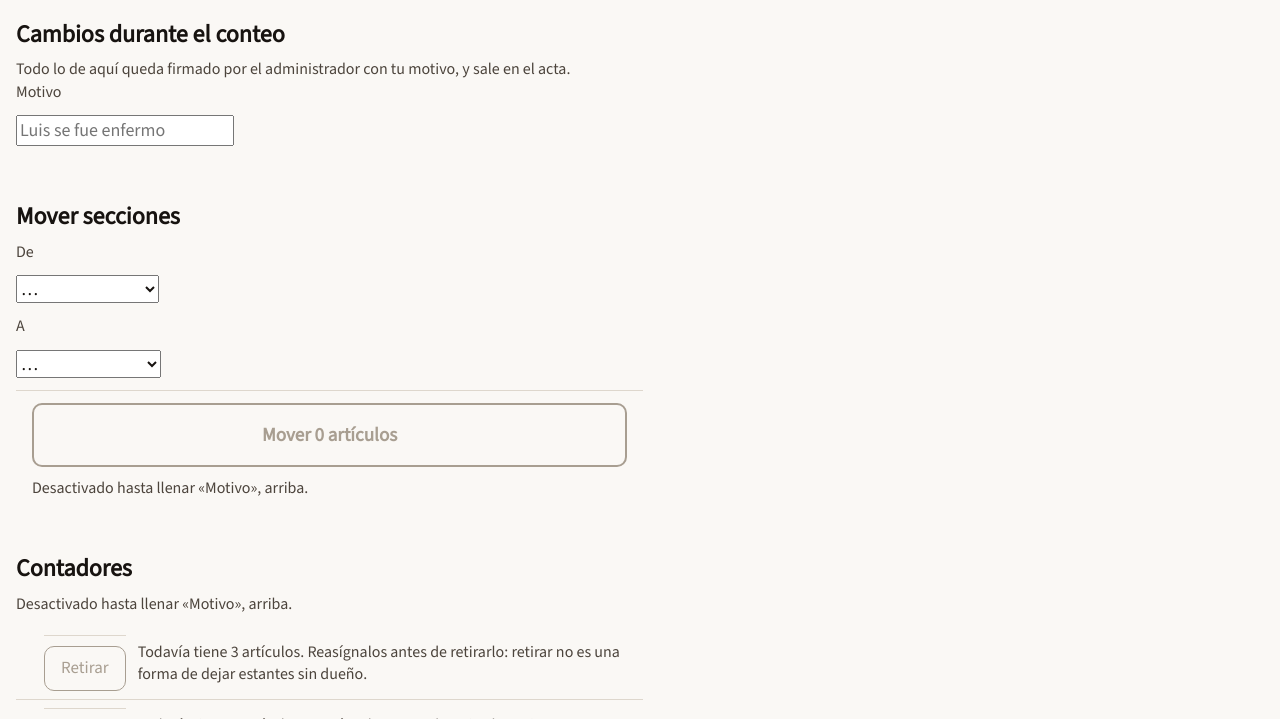
sending the move › turns a refusal back into the sentences it came from
Step 1. Type "x" into the field labelled "Motivo" → (125, 131), box [16, 115, 234, 146]
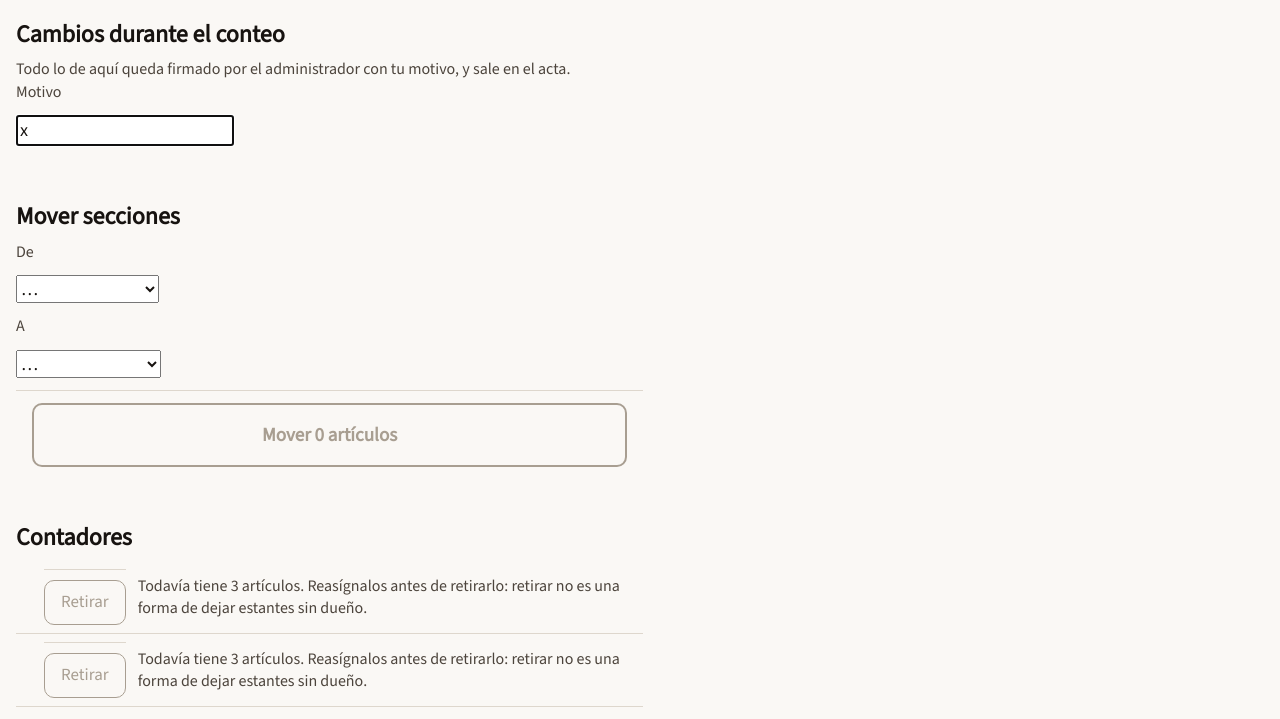
Step 2. Select "Luis · 3 artículos" in the dropdown labelled "De" → (88, 289), box [16, 275, 159, 303]
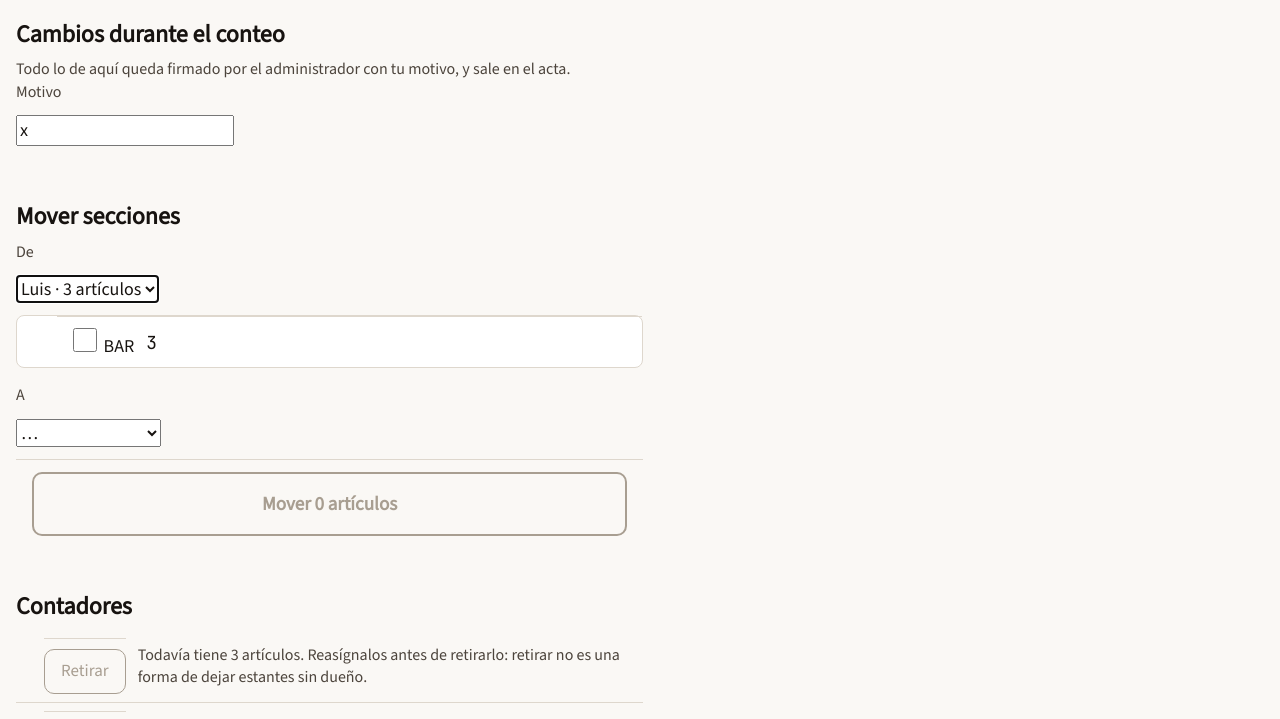
Step 3. Click the checkbox → (85, 340), box [73, 328, 97, 352]
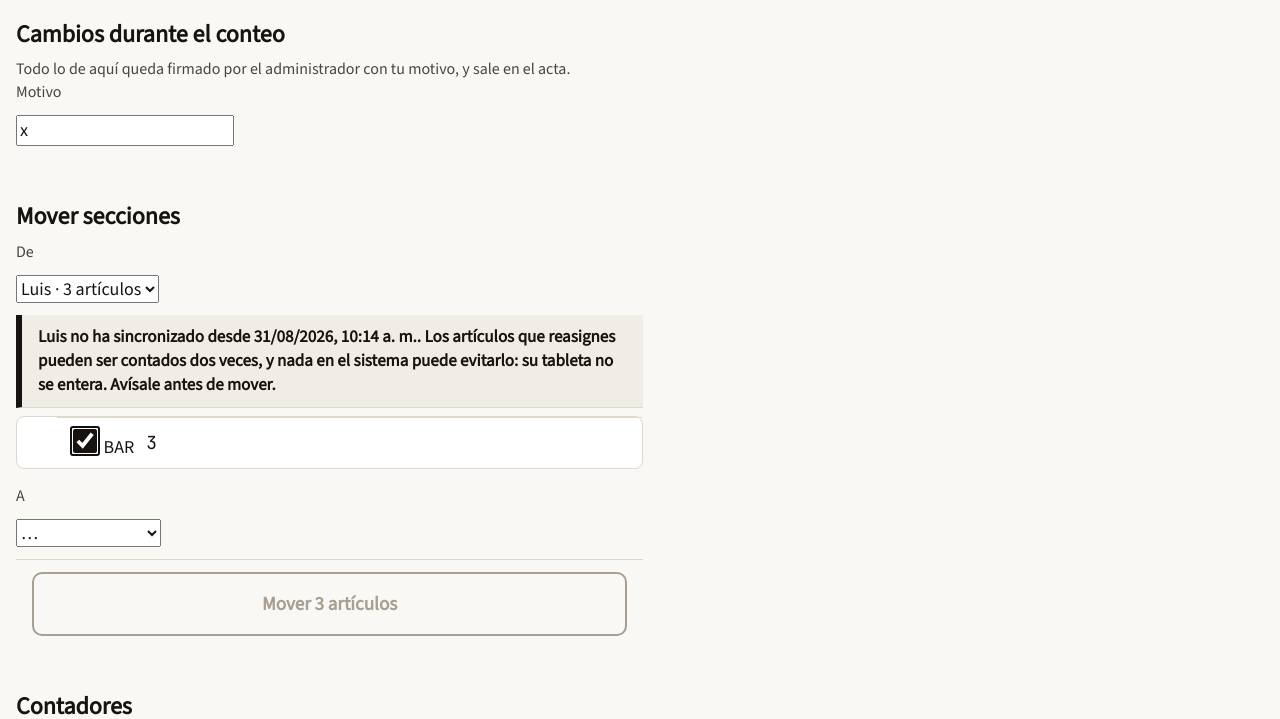
Step 4. Select "Ana" in the dropdown labelled "A" → (88, 533), box [16, 519, 161, 547]
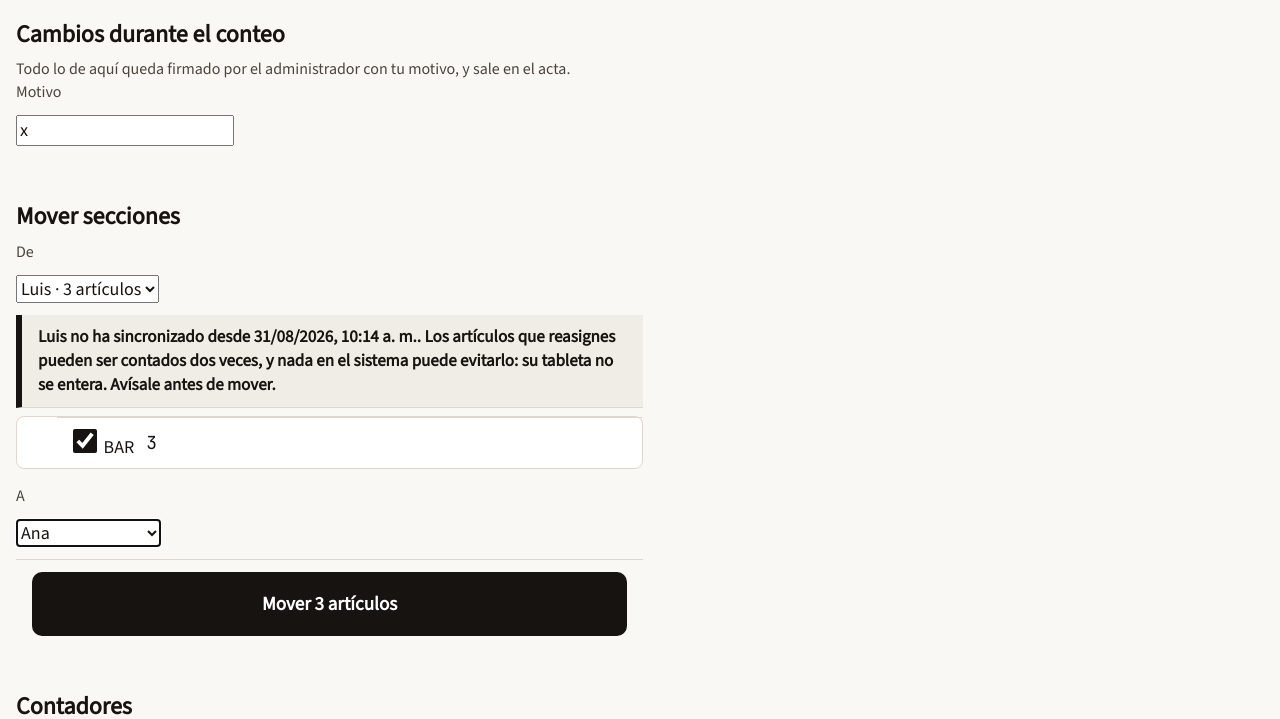
Step 5. Click the button "Mover 3 artículos" → (330, 604), box [32, 572, 627, 636]
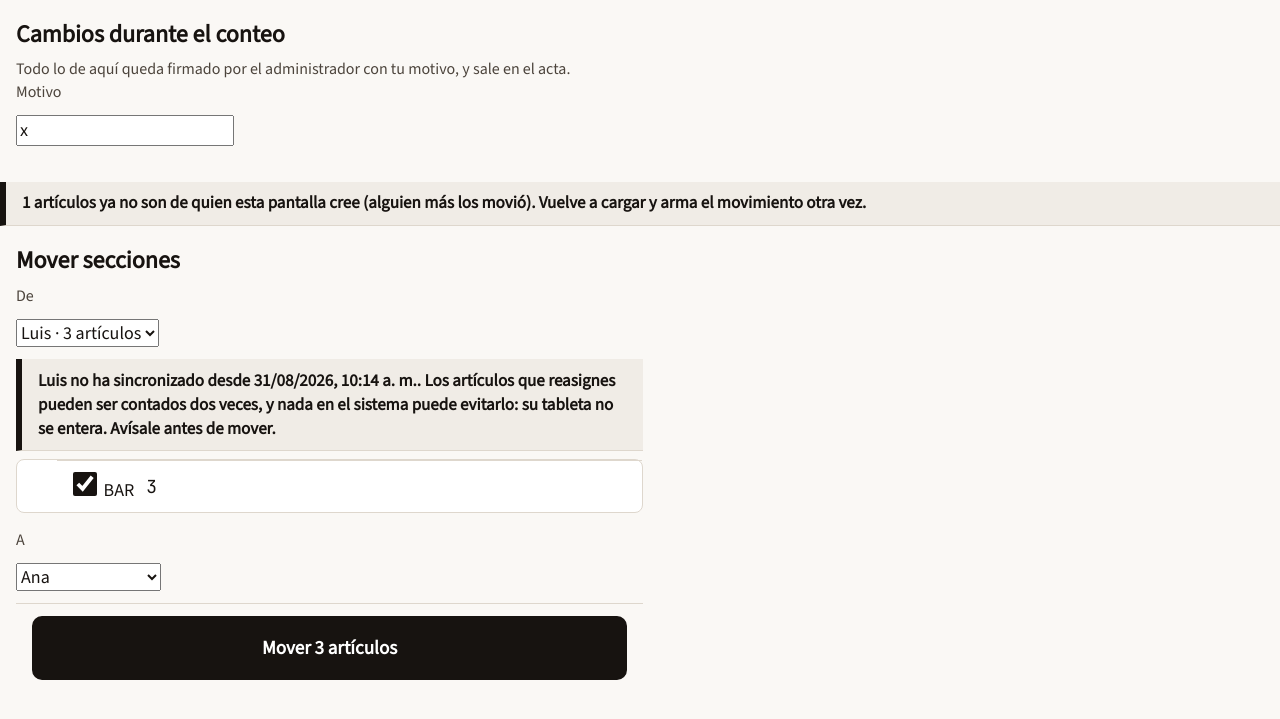
Check: the text "Vuelve a cargar y arma el movimiento otra vez" is shown, box [22, 191, 866, 214]
